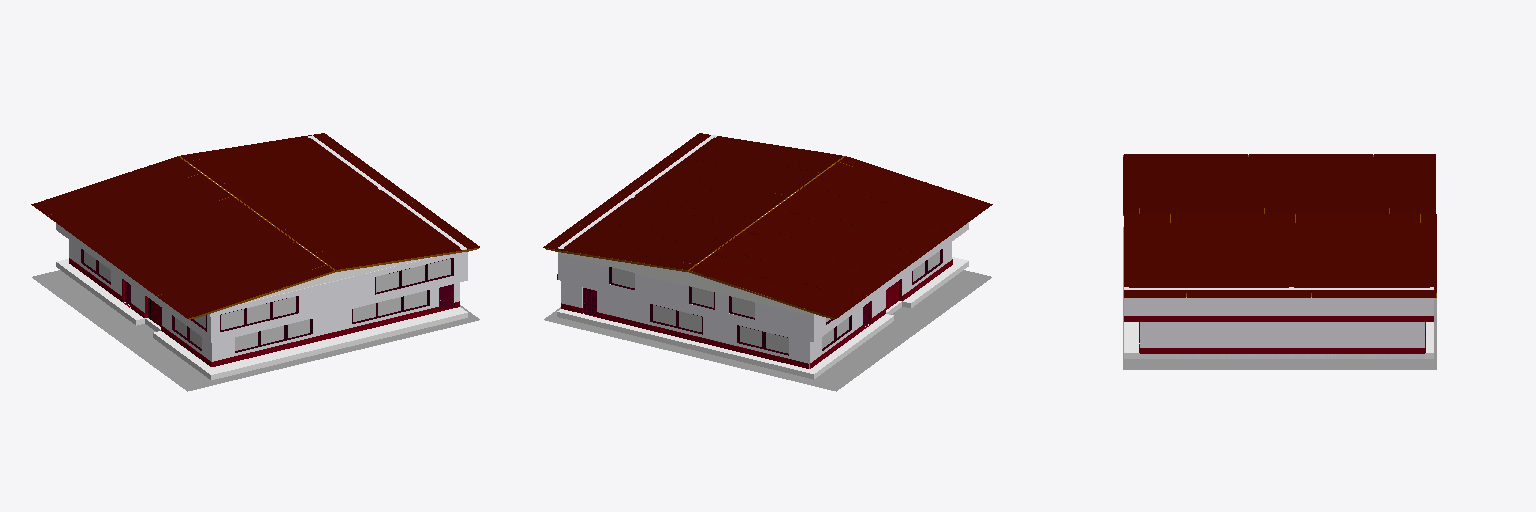
3 renders of one model, left to right at view 1: azimuth 30°, elevation 25°; view 2: azimuth 150°, elevation 25°; view 3: azimuth 270°, elevation 25°, orthographic.
Visible parts, largest first — view 1: Tuile_1_591, Tuile_1_587, ground_1, wall_12_94, room_33_242, wall_1_7, wall_1_5, wall_6_47, wall_22_173, wall_6_45; view 2: Tuile_1_591, Tuile_1_587, ground_1, wall_26_202, room_33_242, wall_5_38, wall_5_36, wall_6_47, wall_28_214, wall_27_208, wall_22_173, wall_6_45; view 3: Tuile_1_587, Tuile_1_591, wall_4_30, wall_21_165, ground_1, wall_21_163, wall_4_28, room_33_242.
Part boxes in pixels (bbox=[...]): Tuile_1_591: bbox=[31, 156, 333, 318]; Tuile_1_587: bbox=[181, 133, 479, 269]; ground_1: bbox=[32, 270, 479, 391]; wall_12_94: bbox=[211, 249, 466, 342]; room_33_242: bbox=[56, 259, 467, 379]; wall_1_7: bbox=[211, 283, 459, 361]; wall_1_5: bbox=[212, 301, 459, 366]; wall_6_47: bbox=[69, 240, 208, 359]; wall_22_173: bbox=[102, 257, 210, 342]; wall_6_45: bbox=[69, 258, 211, 366]; Tuile_1_591: bbox=[690, 156, 992, 318]; Tuile_1_587: bbox=[543, 133, 842, 269]; ground_1: bbox=[544, 270, 991, 391]; wall_26_202: bbox=[558, 248, 813, 341]; room_33_242: bbox=[557, 257, 968, 379]; wall_5_38: bbox=[562, 281, 808, 363]; wall_5_36: bbox=[561, 303, 808, 368]; wall_6_47: bbox=[809, 244, 949, 368]; wall_28_214: bbox=[689, 273, 814, 316]; wall_27_208: bbox=[558, 252, 688, 285]; wall_22_173: bbox=[859, 222, 968, 308]; wall_6_45: bbox=[810, 259, 952, 368]; Tuile_1_587: bbox=[1124, 214, 1436, 297]; Tuile_1_591: bbox=[1123, 154, 1435, 213]; wall_4_30: bbox=[1140, 322, 1424, 358]; wall_21_165: bbox=[1124, 297, 1433, 315]; ground_1: bbox=[1123, 227, 1436, 369]; wall_21_163: bbox=[1124, 316, 1433, 321]; wall_4_28: bbox=[1140, 348, 1424, 353]; room_33_242: bbox=[1124, 322, 1433, 358].
Bounding box in the file's own units: 292 × 81 × 270.